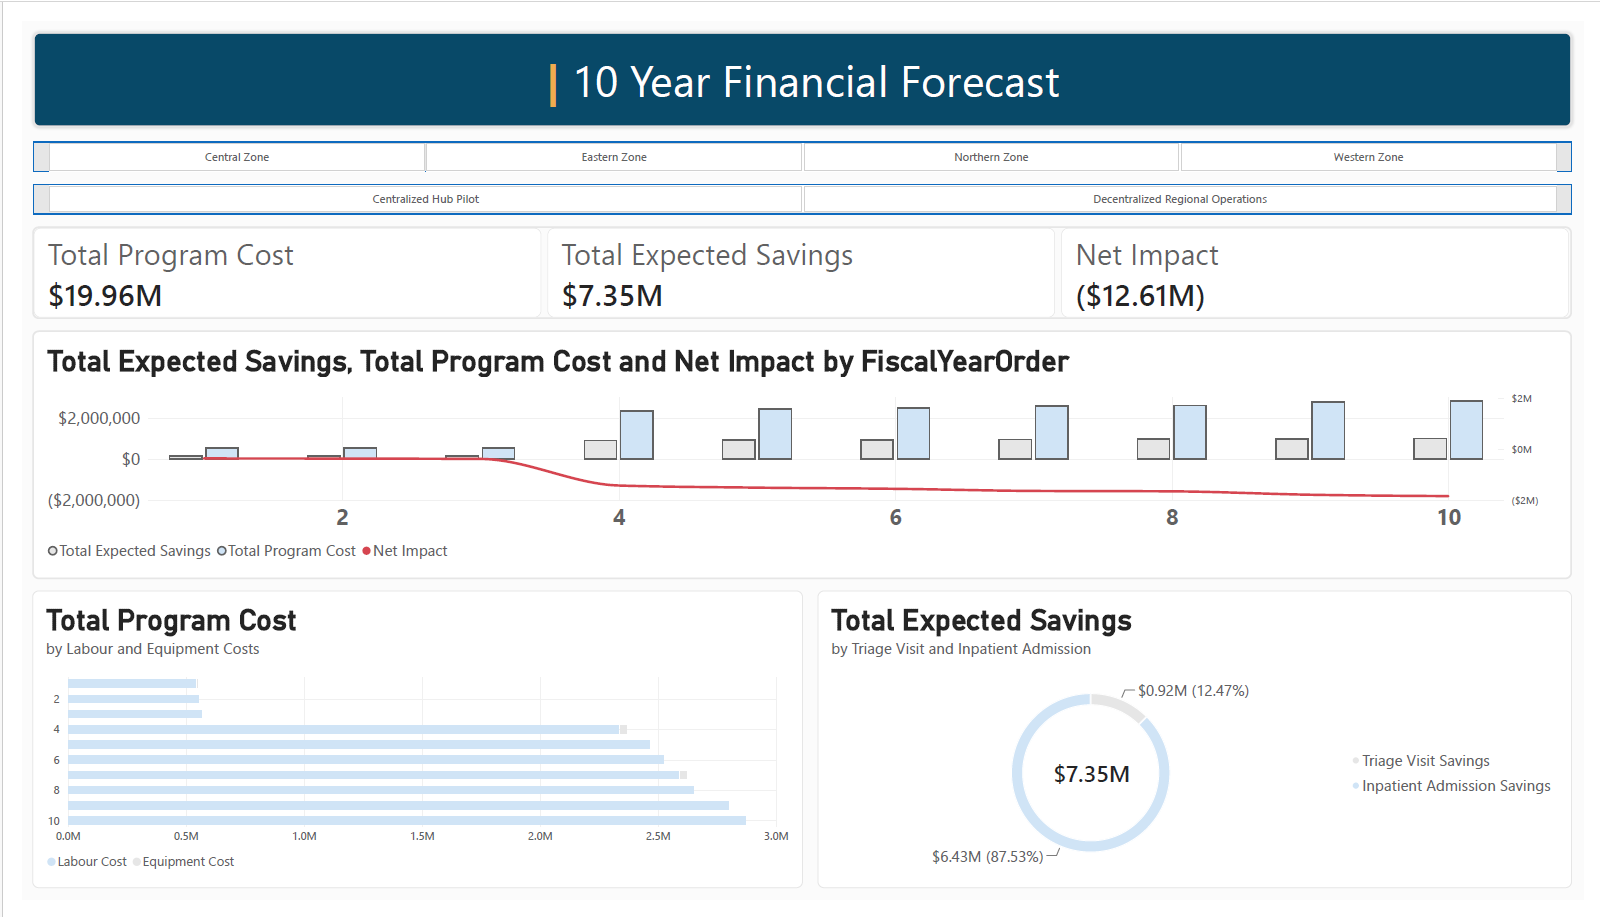

The page's visual inventory and layout, read from the dashboard file:
{"tool":"powerbi","page":{"name":"10 Year Financial Forecast","canvas":[1920,1080],"ordinal":1},"visuals":[{"type":"cardVisual","fields":{"Data":["Sum(ns_health_10yr_financial_forecast.Total_Program_Cost)","Sum(ns_health_10yr_financial_forecast.Total_Expected_Savings)","Sum(ns_health_10yr_financial_forecast.Net_Fiscal_Impact)"]},"box":[12,252,1894,114],"z":0},{"type":"lineClusteredColumnComboChart","fields":{"Category":["ns_health_10yr_financial_forecast.FiscalYearOrder"],"Y":["Sum(ns_health_10yr_financial_forecast.Total_Expected_Savings)","Sum(ns_health_10yr_financial_forecast.Total_Program_Cost)"],"Y2":["Sum(ns_health_10yr_financial_forecast.Net_Fiscal_Impact)"]},"box":[12,380,1894,306],"z":1000},{"type":"textbox","box":[13,13,1892.6,116.6],"z":2000},{"type":"barChart","title":"Total Program Cost","fields":{"Category":["ns_health_10yr_financial_forecast.FiscalYearOrder"],"Y":["Sum(ns_health_10yr_financial_forecast.Operational_Labour_Cost)","Sum(ns_health_10yr_financial_forecast.Laptop_Capital_Cost)"]},"box":[12,700,948,366],"z":3000},{"type":"donutChart","title":"Total Expected Savings","fields":{"Y":["Sum(ns_health_10yr_financial_forecast.ED_Triage_Savings)","Sum(ns_health_10yr_financial_forecast.Inpatient_Admission_Savings)"]},"box":[978,700,928,366],"z":4000},{"type":"shape","box":[13,148,1892.6,37],"z":5000},{"type":"slicer","fields":{"Values":["ns_health_10yr_financial_forecast.Zone"]},"box":[12,148,1894,38],"z":6000},{"type":"shape","box":[13,199.8,1892.6,37],"z":7000},{"type":"slicer","fields":{"Values":["ns_health_10yr_financial_forecast.DeploymentPhase"]},"box":[12,200,1894,36],"z":8000},{"type":"cardVisual","fields":{"Data":["Sum(ns_health_10yr_financial_forecast.Total_Expected_Savings)"]},"box":[1252,898,130,52],"z":9000}]}

Visuals, with their boxes in screenshot pixels (x1, y1, x2, y2), scaled from the page's 1920x1080 canvas onto the 1600x917 screenshot:
cardVisual - Sum(ns_health_10yr_financial_forecast.Total_Program_Cost) x Sum(ns_health_10yr_financial_forecast.Total_Expected_Savings): [10, 214, 1588, 311]
lineClusteredColumnComboChart - ns_health_10yr_financial_forecast.FiscalYearOrder x Sum(ns_health_10yr_financial_forecast.Total_Expected_Savings): [10, 323, 1588, 582]
textbox: [11, 11, 1588, 110]
"Total Program Cost" barChart: [10, 594, 800, 905]
"Total Expected Savings" donutChart: [815, 594, 1588, 905]
shape: [11, 126, 1588, 157]
slicer - ns_health_10yr_financial_forecast.Zone: [10, 126, 1588, 158]
shape: [11, 170, 1588, 201]
slicer - ns_health_10yr_financial_forecast.DeploymentPhase: [10, 170, 1588, 200]
cardVisual - Sum(ns_health_10yr_financial_forecast.Total_Expected_Savings): [1043, 762, 1152, 807]
